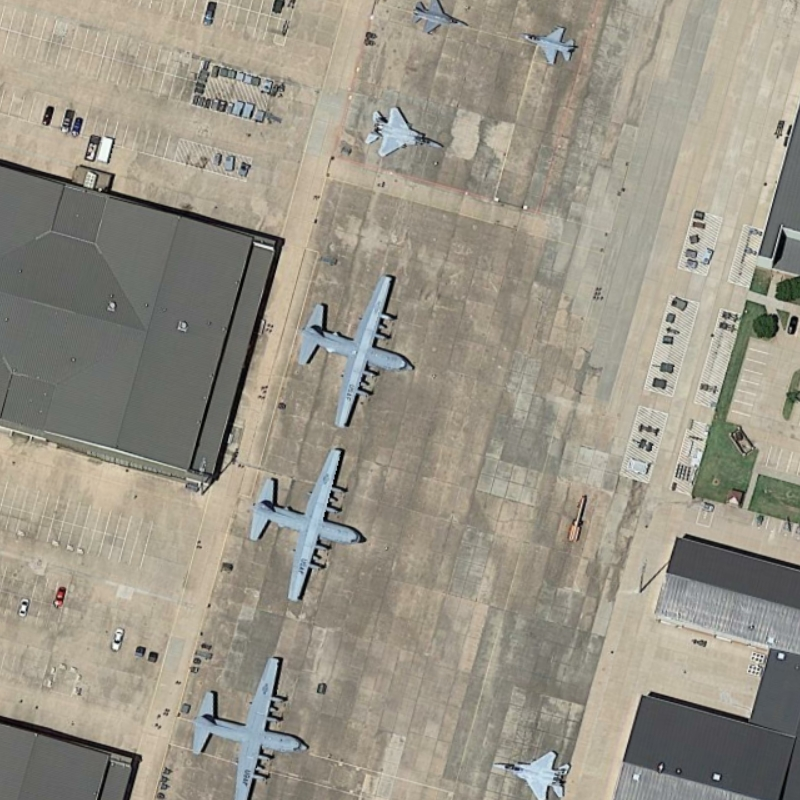A13: (357, 94, 448, 166), (491, 742, 576, 800)
A2: (297, 262, 429, 431), (243, 441, 375, 605), (183, 646, 312, 800)
A5: (516, 13, 581, 72), (405, 1, 477, 40)
